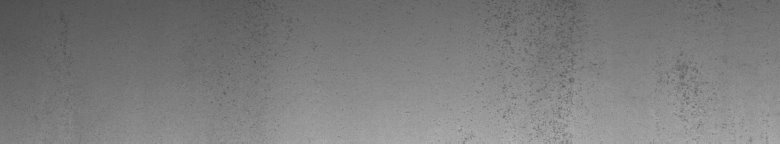ib: (485, 4, 582, 136)
